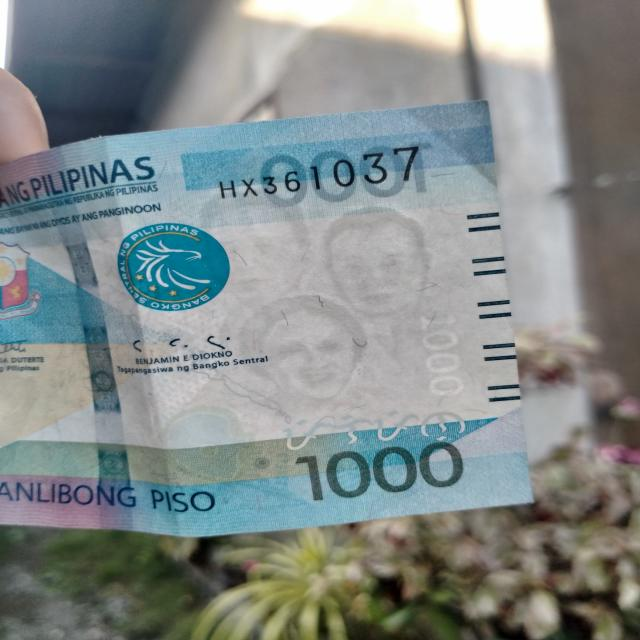security_thread: (34, 145, 136, 530)
see_through_mark: (267, 408, 481, 453)
serial_number: (203, 139, 432, 200)
value_watermark: (413, 306, 465, 404)
watermark: (202, 186, 437, 422)
